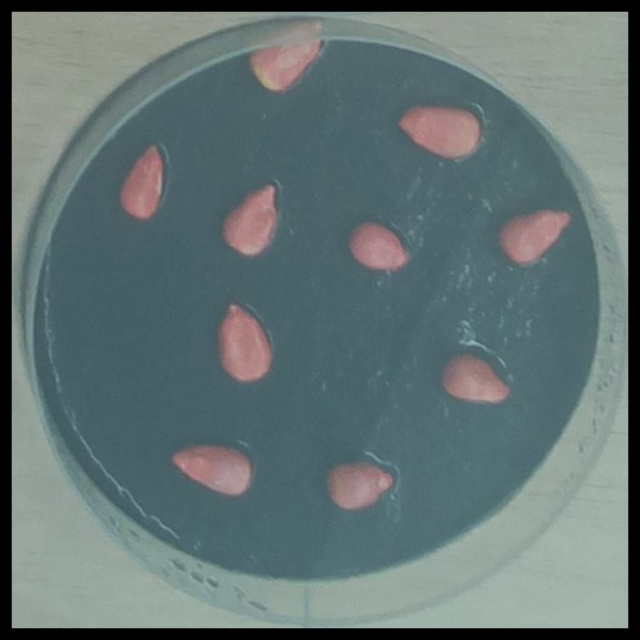Zea mays: (240, 12, 327, 98), (391, 96, 487, 164), (162, 435, 258, 502), (212, 297, 277, 387), (214, 176, 282, 262), (491, 200, 575, 269), (111, 135, 171, 224), (318, 451, 399, 515), (433, 345, 514, 409), (342, 214, 414, 276)
